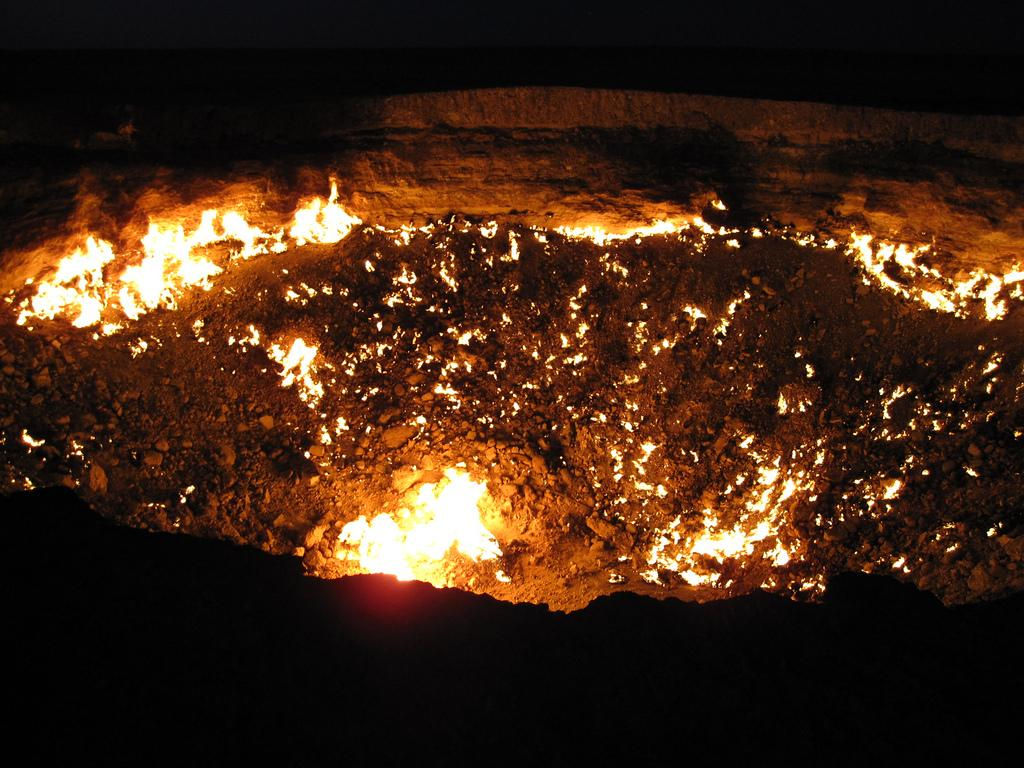fire: (46, 204, 186, 326), (358, 472, 476, 578), (862, 230, 994, 302), (666, 518, 774, 582), (206, 198, 346, 246), (576, 218, 676, 240)
